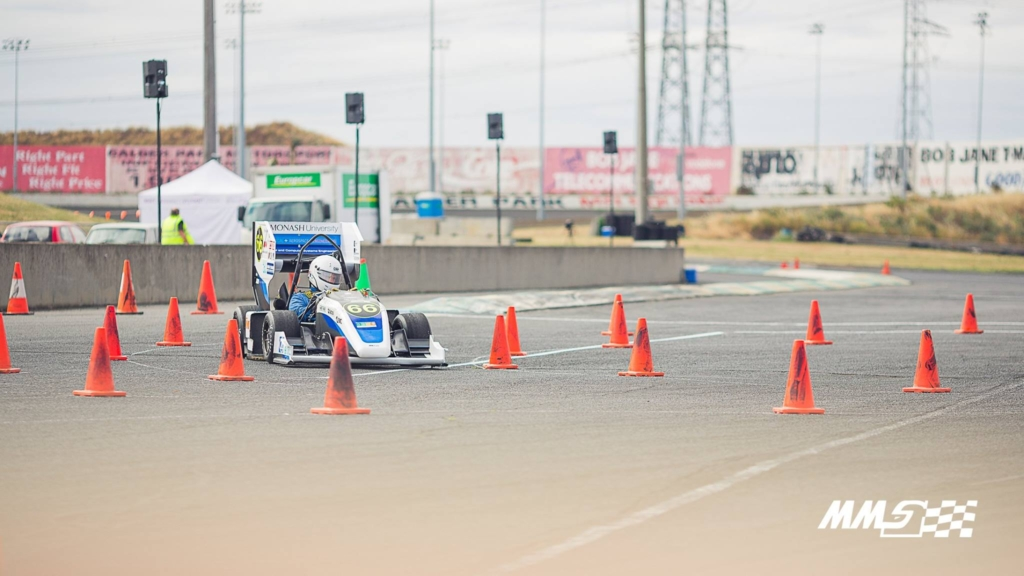cone: (766, 333, 826, 422), (307, 339, 372, 420), (70, 327, 128, 404), (897, 326, 955, 401), (205, 318, 257, 381), (616, 312, 660, 381), (87, 299, 130, 364), (105, 258, 149, 320), (474, 312, 518, 372), (147, 293, 191, 351), (487, 301, 532, 356), (189, 258, 228, 318), (601, 291, 637, 354), (1, 258, 37, 320), (797, 293, 835, 347), (949, 291, 985, 337)
